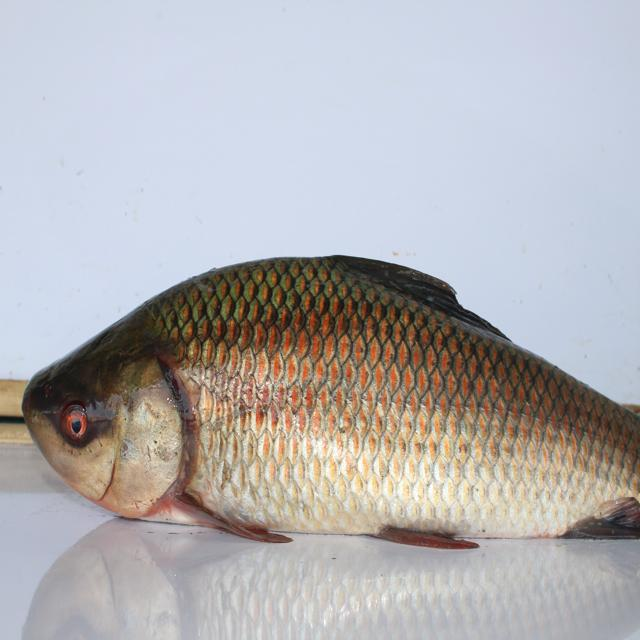Rohu: (17, 259, 640, 563)
